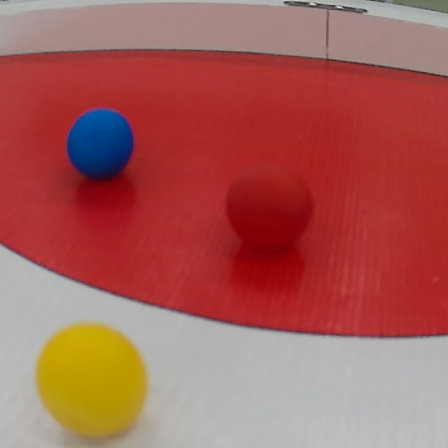blue: (66, 109, 134, 179)
red: (222, 162, 316, 251)
red_base: (1, 48, 444, 344)
yellow: (33, 321, 150, 441)
